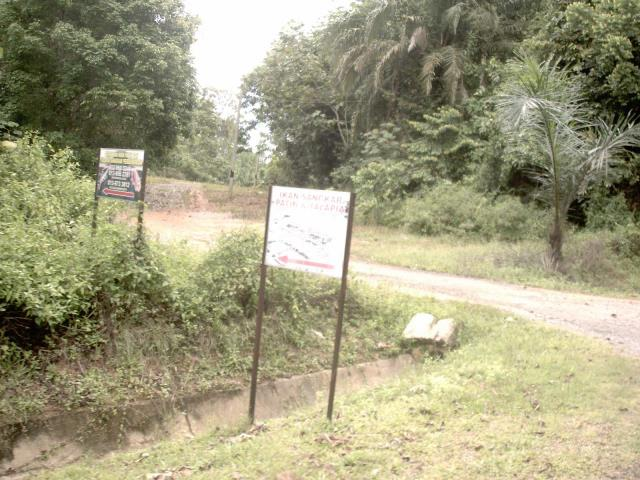ads_sign: (253, 178, 360, 281), (88, 142, 152, 210)
